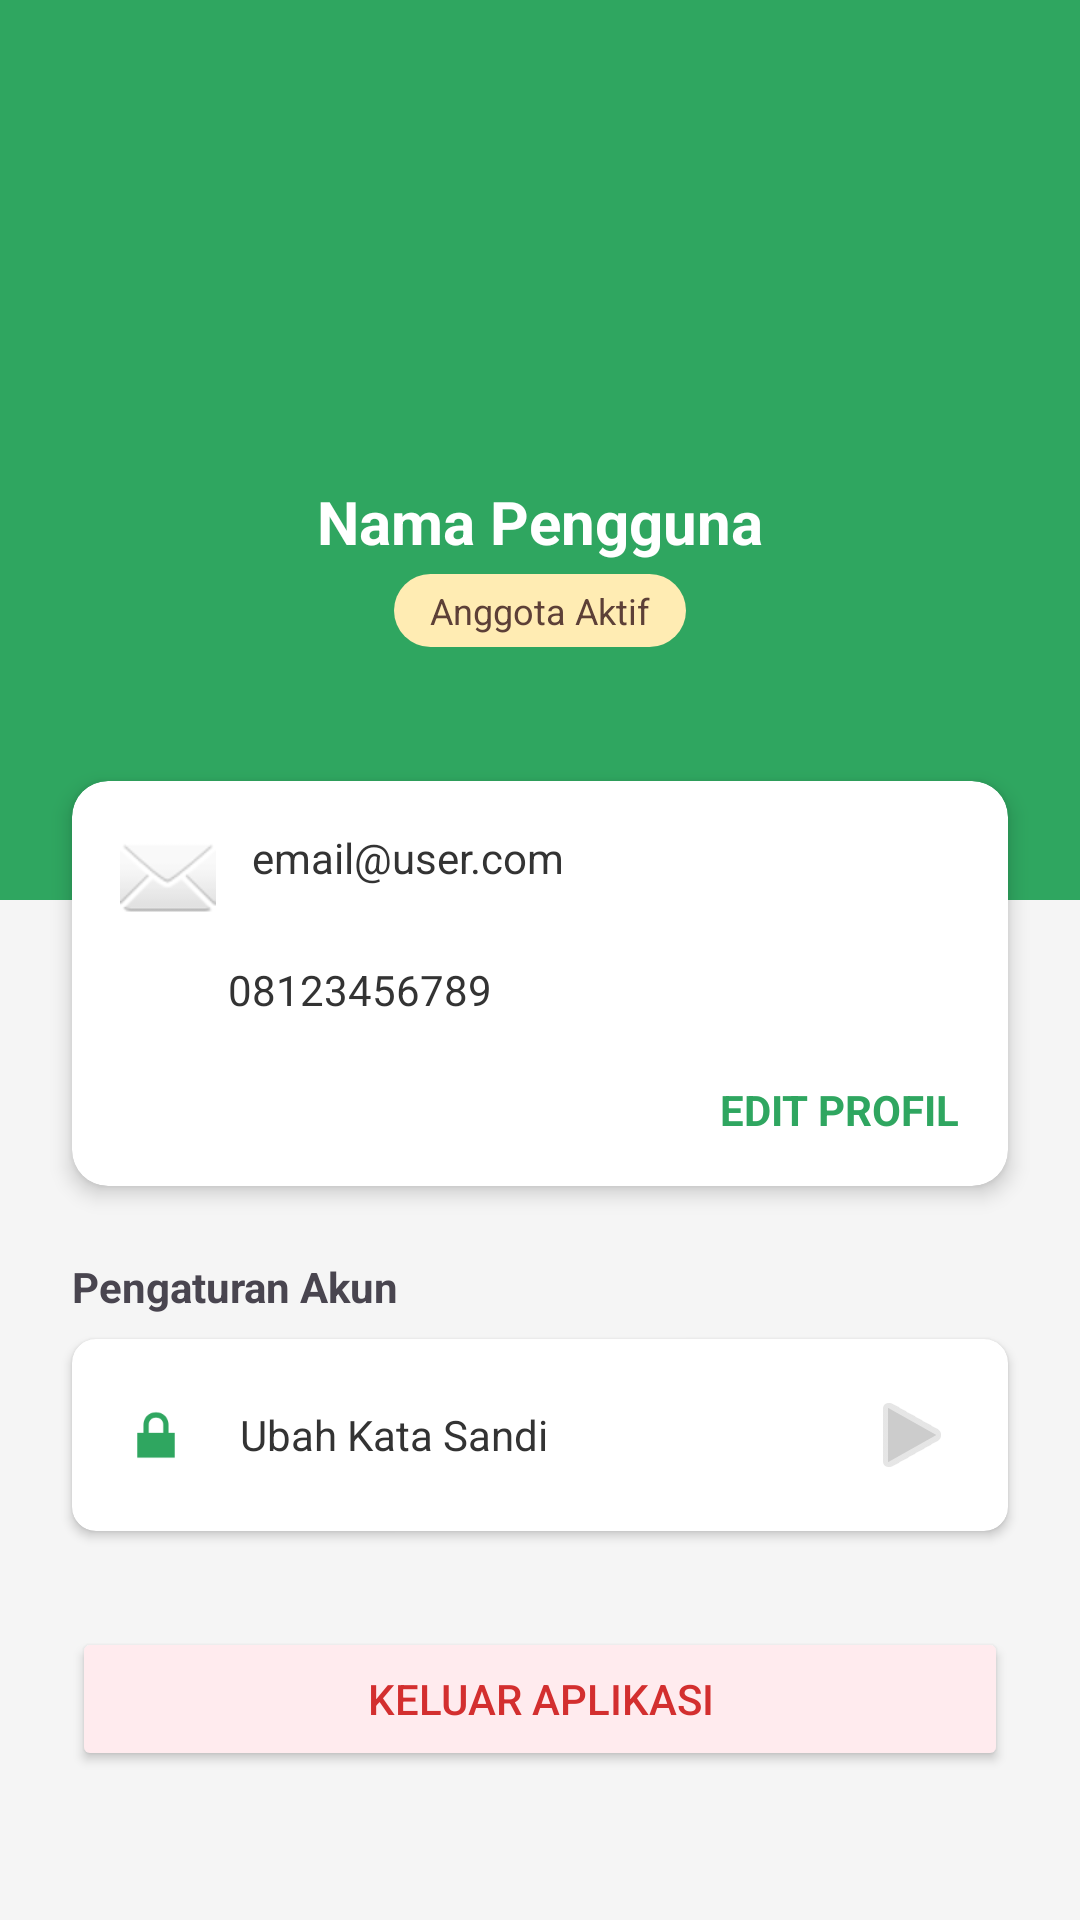

Where to tap for icons on this 1080 x 1920 app screen, as point (x, y):
lock: point (156, 1435)
play: point (912, 1435)
